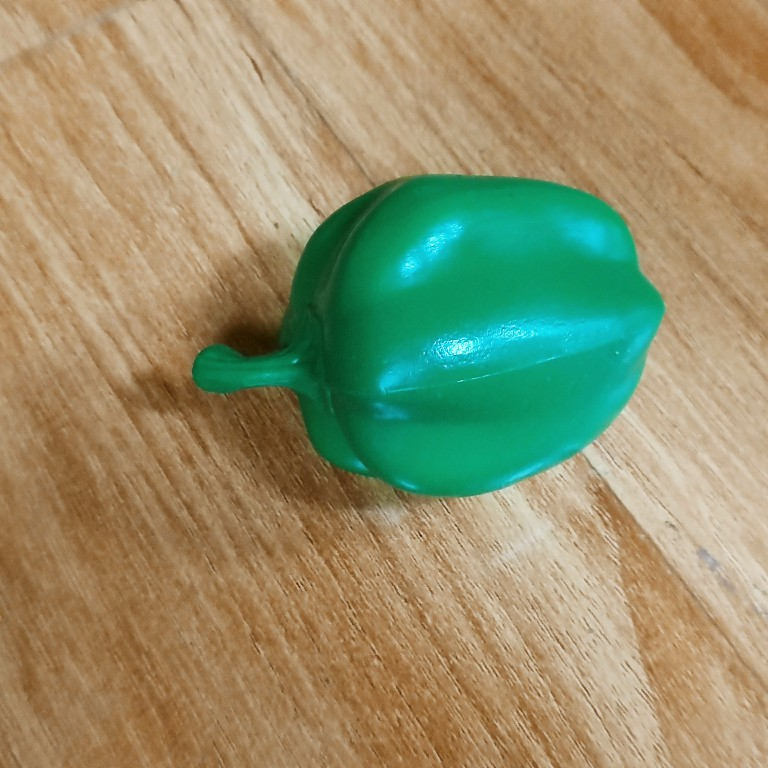fruit_pepper: (188, 168, 672, 510)
